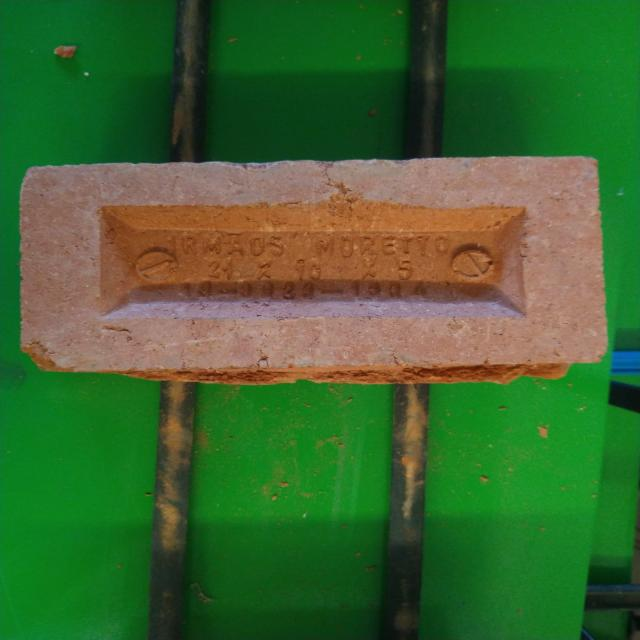bricks_ruin: (17, 154, 609, 385)
